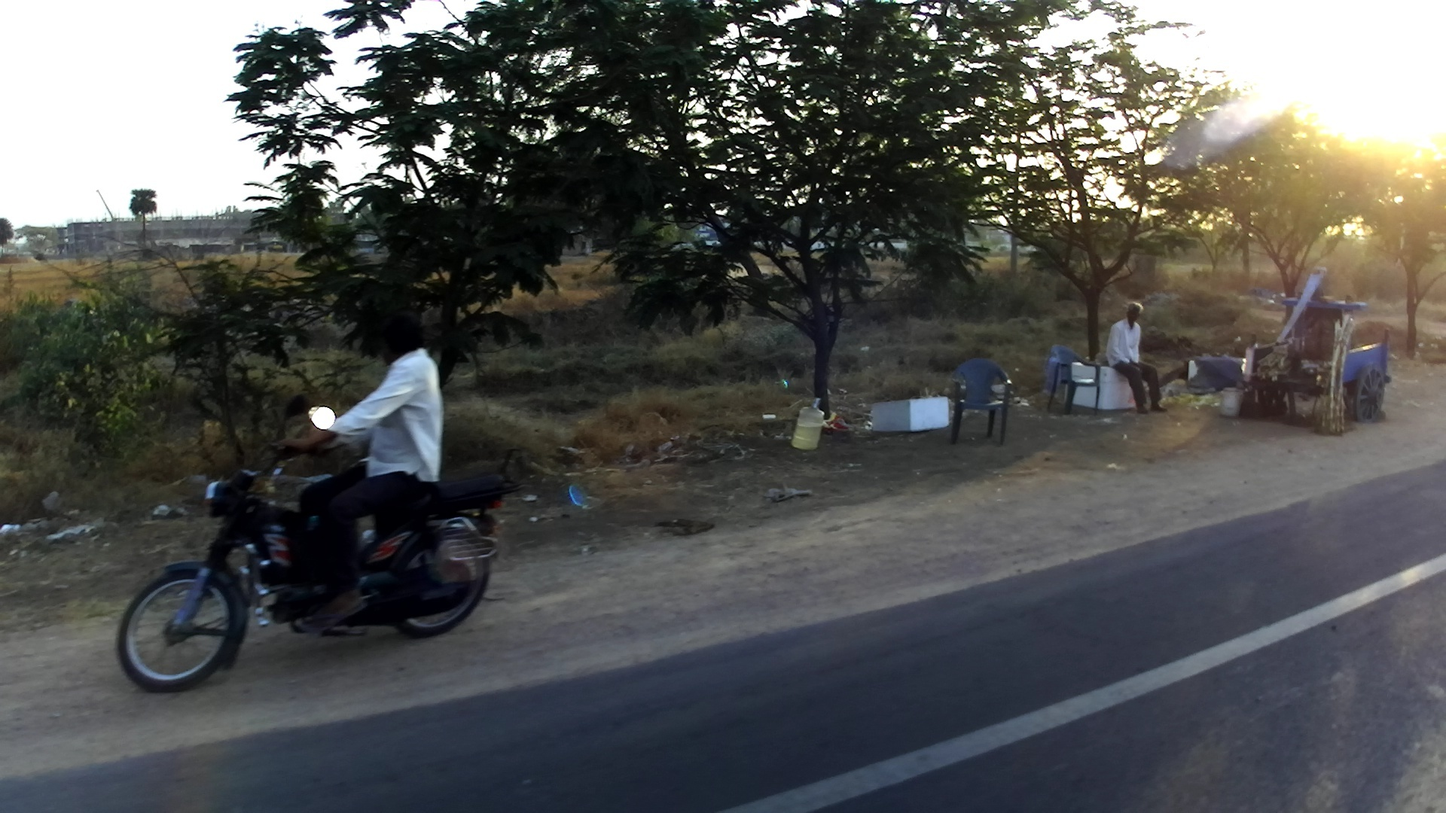motorcycle: (110, 393, 506, 700)
person: (1103, 297, 1167, 420)
rider: (279, 312, 459, 632)
vehicle fallback: (1233, 265, 1399, 435)
